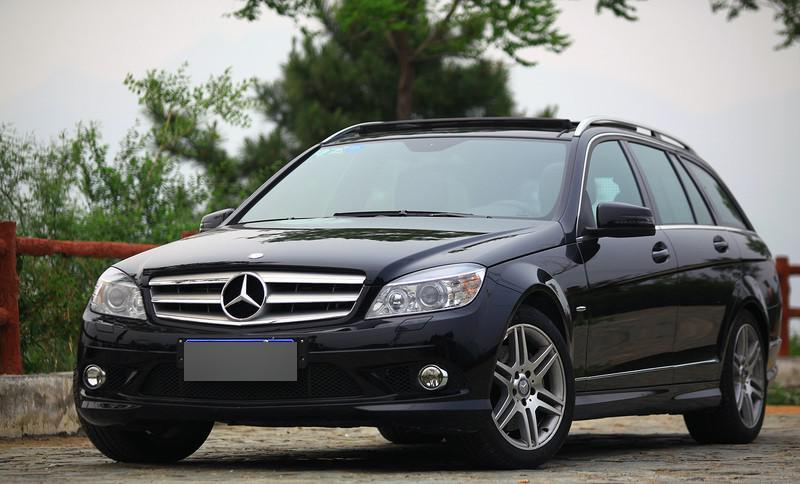Wagon: (72, 113, 785, 468)
